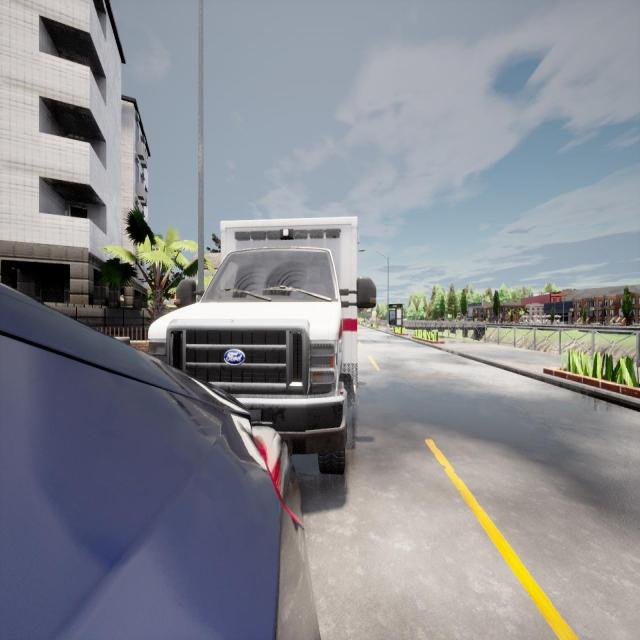Vehicle: (0, 284, 318, 638), (143, 214, 380, 480)
